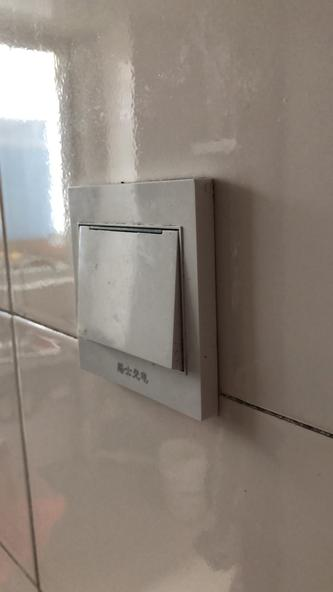switch: (70, 216, 195, 376)
